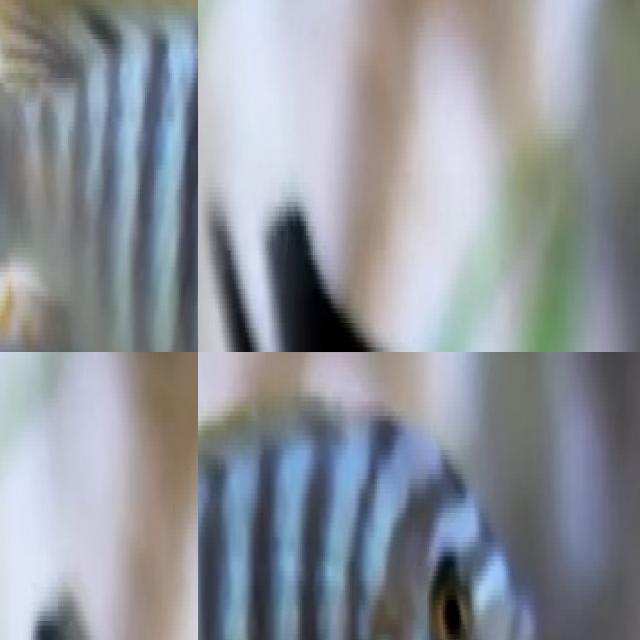fish: (198, 100, 640, 352), (0, 0, 198, 352)
